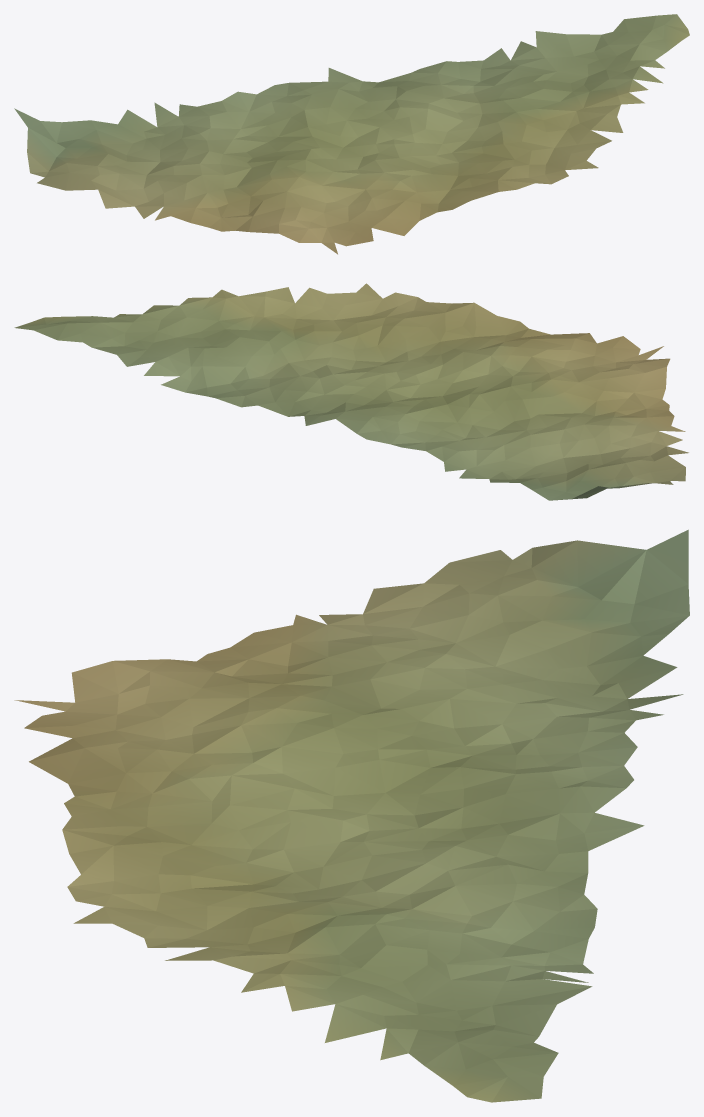
3 views of the same model, one above another, from view 1: azimuth 30°, elevation 25°; view 2: azimuth 150°, elevation 25°; view 3: azimuth 270°, elevation 25° (orthographic). The views are drawn at different scales.
Visible parts, largest first — view 1: 蒙古草原; view 2: 蒙古草原; view 3: 蒙古草原.
Boxes of the visible parts, x1,y1,x2,y2 form: 蒙古草原: (14,14,689,254); 蒙古草原: (14,283,688,500); 蒙古草原: (14,529,689,1102).
Bounding box in the file's own units: 20.21 × 1.19 × 10.48.
